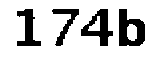1: (13, 7, 44, 49)
4: (81, 6, 115, 50)
7: (49, 5, 78, 50)
b: (115, 4, 147, 52)
